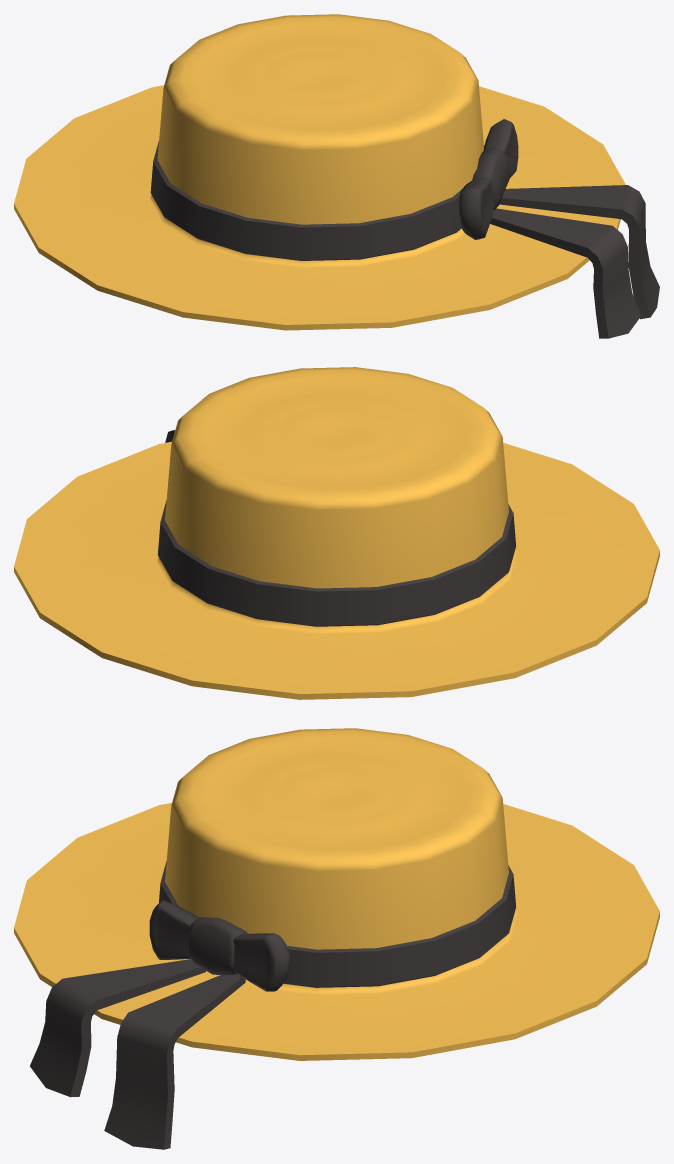
File: Hat_70_01.fbx
3 views of the same model, one above another, from view 1: azimuth 30°, elevation 25°; view 2: azimuth 150°, elevation 25°; view 3: azimuth 270°, elevation 25° (orthographic). The views are drawn at different scales.
Visible parts, largest first — view 1: Hat_70_01; view 2: Hat_70_01; view 3: Hat_70_01.
Boxes of the visible parts, x1,y1,x2,y2 form: Hat_70_01: (14,14,659,338); Hat_70_01: (14,367,659,699); Hat_70_01: (14,728,659,1149).
Bounding box in the file's own units: 56.8 × 22.76 × 57.08.
